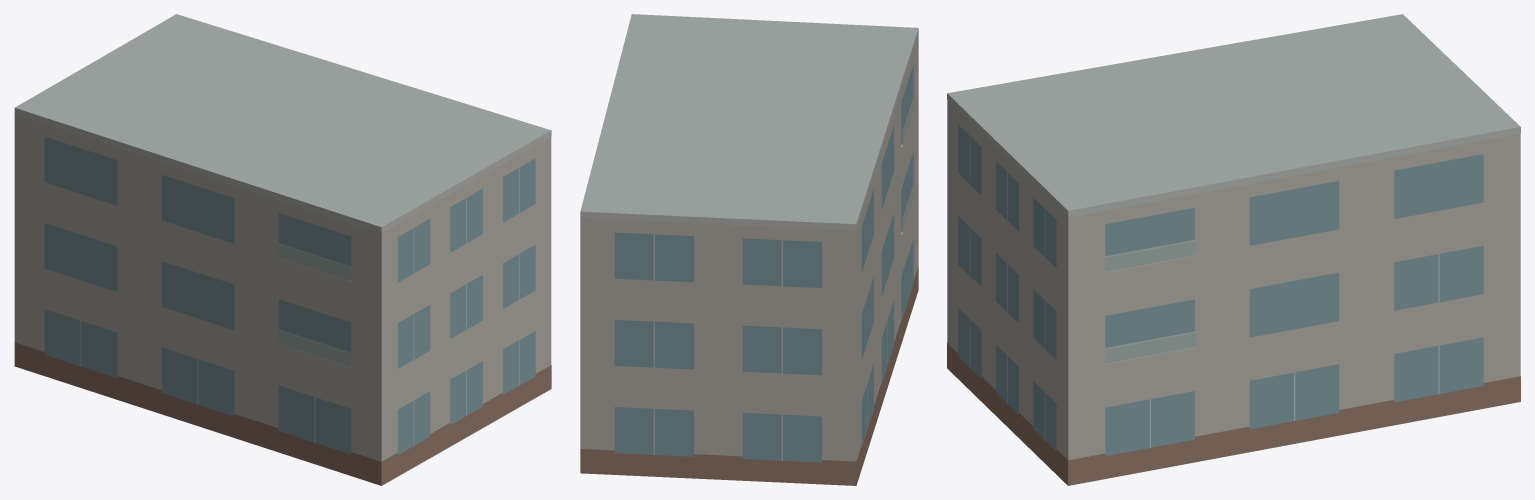
The model's file is survey-upis-32723277.glb.
3 views of the same model, side by side, from view 1: azimuth 30°, elevation 25°; view 2: azimuth 150°, elevation 25°; view 3: azimuth 270°, elevation 25° (orthographic). The views are drawn at different scales.
Parts seen in each view (by area): view 1: survey-upis-32723277.tmp; view 2: survey-upis-32723277.tmp; view 3: survey-upis-32723277.tmp.
Part boxes in pixels (x1,y1,x2,y2): survey-upis-32723277.tmp: [14, 14, 551, 485]; survey-upis-32723277.tmp: [580, 14, 918, 485]; survey-upis-32723277.tmp: [947, 14, 1520, 485].
Size of the model in its own units: 15.36 by 10 by 18.91.
